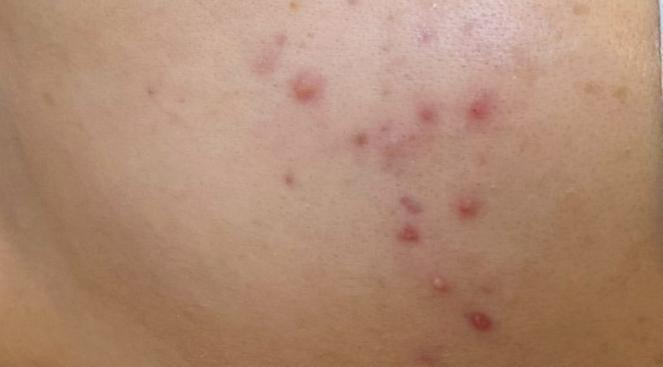papular: (385, 191, 433, 252), (287, 67, 325, 118), (466, 310, 504, 352), (461, 87, 495, 132), (452, 185, 484, 227), (408, 99, 446, 133)
purulent: (428, 270, 458, 302)
